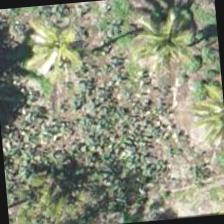Kelapa_Sawit: (34, 7, 132, 106), (110, 0, 208, 88)
